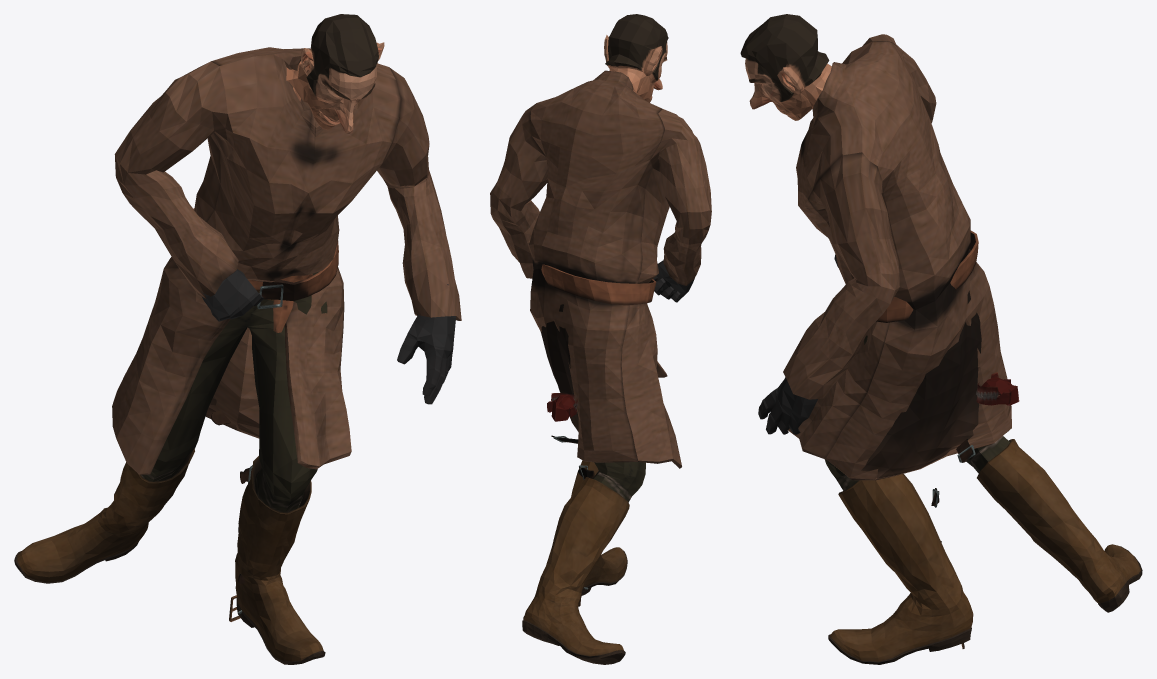
File: sniper01_000020.obj
3 views of the same model, side by side, from view 1: azimuth 30°, elevation 25°; view 2: azimuth 150°, elevation 25°; view 3: azimuth 270°, elevation 25° (orthographic). The views are drawn at different scales.
Parts seen in each view (by area): view 1: Tops, Shoes, Bottoms, BodyParts; view 2: Tops, Shoes, BodyParts, Bottoms; view 3: Tops, Shoes, BodyParts, Bottoms.
Boxes of the visible parts, x1,y1,x2,y2 form: Tops: (112,47,461,614); Shoes: (14,449,325,664); Bottoms: (141,271,327,621); BodyParts: (201,14,455,404); Tops: (490,70,711,589); Shoes: (522,460,629,664); BodyParts: (547,14,694,421); Bottoms: (578,462,645,606); Tops: (783,34,1011,542); Shoes: (828,439,1142,664); BodyParts: (740,14,1019,434); Bottoms: (825,335,1009,648).
Bounding box in the file's own units: 1.07 × 2.35 × 1.34.
